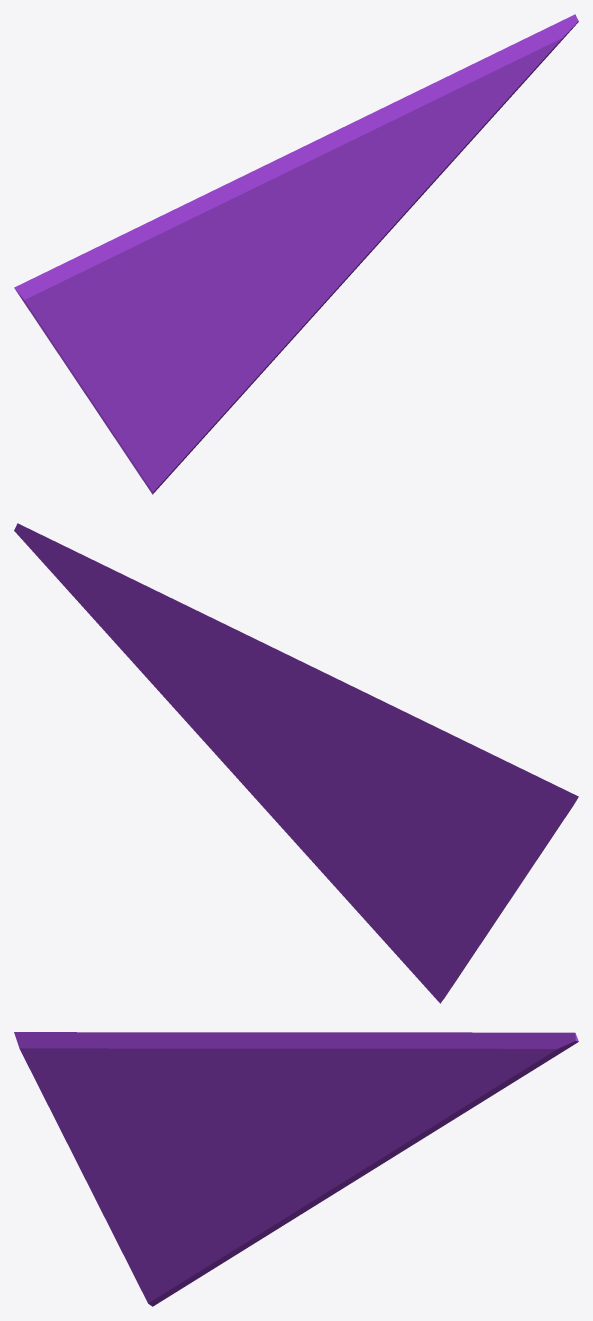
Rendered from Glass_78_5_chunks.fbx.
3 views of the same model, one above another, from view 1: azimuth 30°, elevation 25°; view 2: azimuth 150°, elevation 25°; view 3: azimuth 330°, elevation 25° (orthographic).
Parts seen in each view (by area): view 1: Glass_78_5_2, Glass_78_5_3, Glass_78_5_0, Glass_78_5_1; view 2: Glass_78_5_2, Glass_78_5_3, Glass_78_5_0, Glass_78_5_1; view 3: Glass_78_5_2, Glass_78_5_3, Glass_78_5_0, Glass_78_5_1.
Boxes of the visible parts, left/top/right/bottom form: Glass_78_5_2: left=14, top=173, right=273, bottom=430; Glass_78_5_3: left=250, top=14, right=578, bottom=255; Glass_78_5_0: left=109, top=264, right=344, bottom=494; Glass_78_5_1: left=272, top=227, right=391, bottom=286; Glass_78_5_2: left=322, top=682, right=578, bottom=936; Glass_78_5_3: left=14, top=523, right=342, bottom=769; Glass_78_5_0: left=248, top=768, right=485, bottom=1003; Glass_78_5_1: left=207, top=745, right=306, bottom=789; Glass_78_5_2: left=14, top=1032, right=268, bottom=1221; Glass_78_5_3: left=250, top=1032, right=578, bottom=1161; Glass_78_5_0: left=107, top=1133, right=344, bottom=1306; Glass_78_5_1: left=267, top=1125, right=387, bottom=1188.
Size of the model in its own units: 675 by 431 by 5.32.
